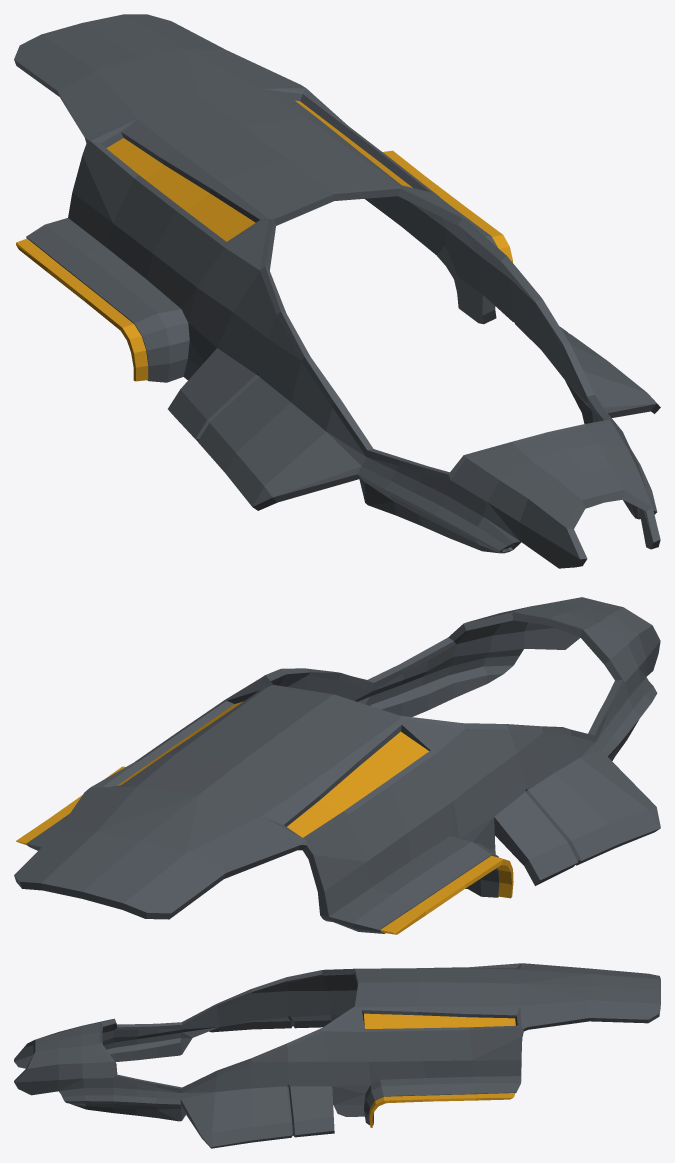
The model's file is Fighter_07_Upper_Frame_Yellow.fbx.
3 renders of one model, top to bottom at view 1: azimuth 30°, elevation 25°; view 2: azimuth 150°, elevation 25°; view 3: azimuth 270°, elevation 25°, orthographic. The views are drawn at different scales.
Parts seen in each view (by area): view 1: Fighter_07_Upper_Frame_Yellow; view 2: Fighter_07_Upper_Frame_Yellow; view 3: Fighter_07_Upper_Frame_Yellow.
Part boxes in pixels (x1,y1,x2,y2): Fighter_07_Upper_Frame_Yellow: (14, 14, 660, 568); Fighter_07_Upper_Frame_Yellow: (14, 597, 660, 934); Fighter_07_Upper_Frame_Yellow: (14, 963, 660, 1148).
Size of the model in its own units: 774 by 326 by 1766.
Materials: 1 (1 with a texture image).
